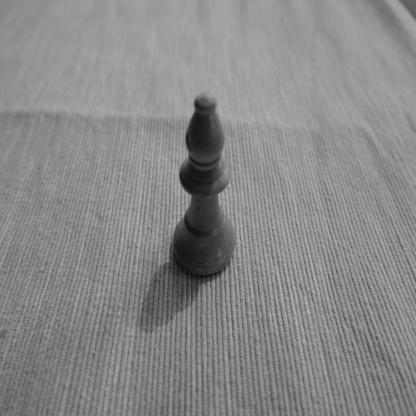white-bishop: (172, 90, 238, 278)
